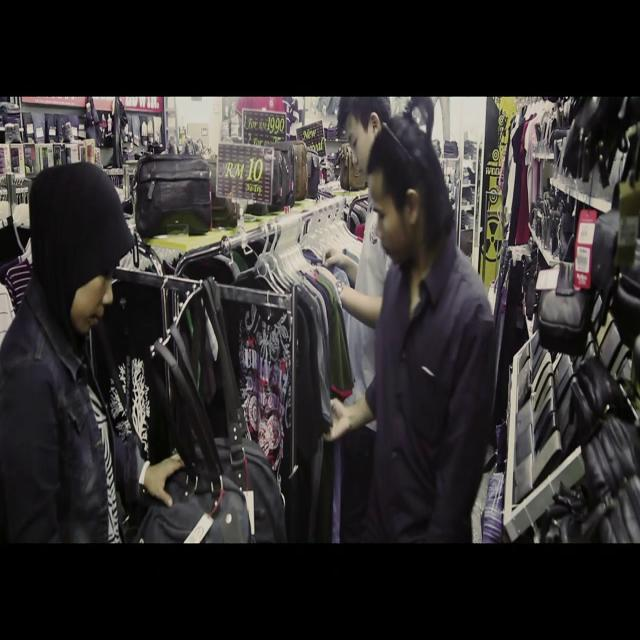normal: (306, 99, 537, 548), (0, 135, 247, 547), (326, 96, 392, 181)
